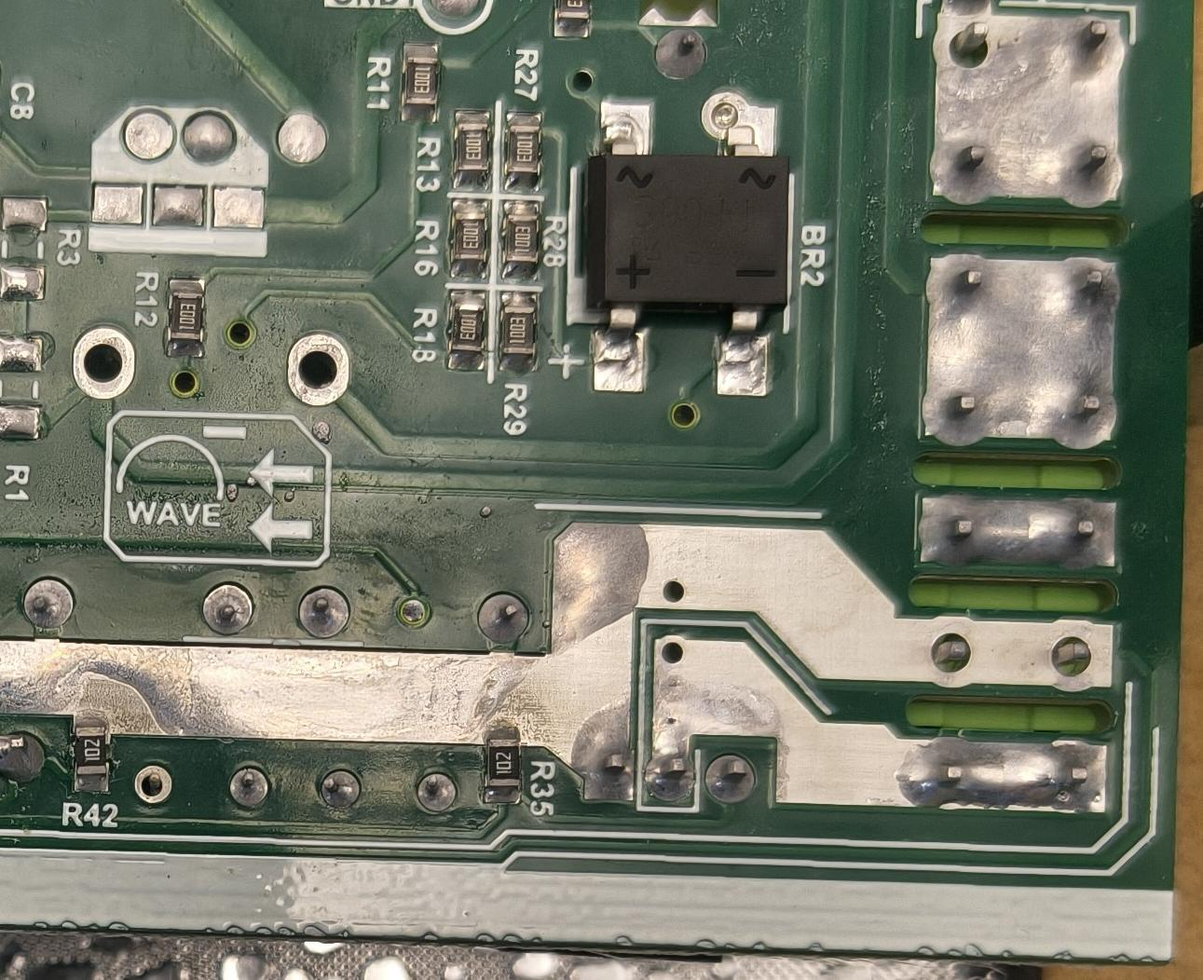R+: (396, 38, 443, 121), (71, 716, 118, 798), (479, 729, 522, 803), (168, 278, 209, 354), (503, 105, 540, 188), (508, 197, 542, 278), (502, 290, 535, 371), (452, 196, 487, 272), (453, 110, 487, 185), (452, 290, 483, 366)
Soldagem+: (1042, 121, 1120, 205), (1050, 359, 1118, 453), (905, 735, 982, 804), (921, 373, 996, 441), (936, 125, 1002, 201), (1042, 495, 1112, 566), (1055, 20, 1125, 90), (931, 256, 1004, 322), (291, 578, 359, 648), (920, 493, 994, 556), (693, 740, 760, 807), (16, 566, 83, 633), (645, 31, 724, 87), (475, 583, 536, 649), (209, 751, 279, 806), (197, 575, 259, 637), (307, 756, 369, 818), (397, 765, 469, 816), (1034, 749, 1096, 808), (577, 736, 632, 798), (1066, 260, 1114, 320), (642, 751, 692, 800)
SoldagemFaltando: (1038, 617, 1112, 692), (913, 614, 984, 689), (936, 17, 1002, 84), (127, 756, 173, 807)
